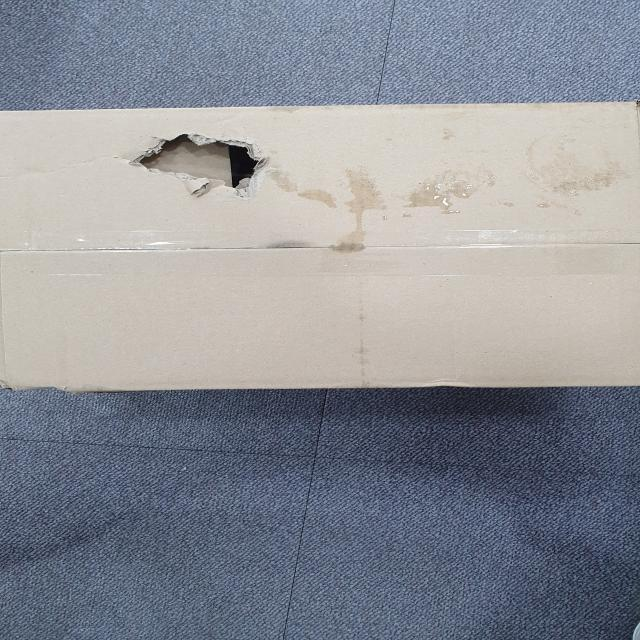hole: (125, 134, 267, 196)
